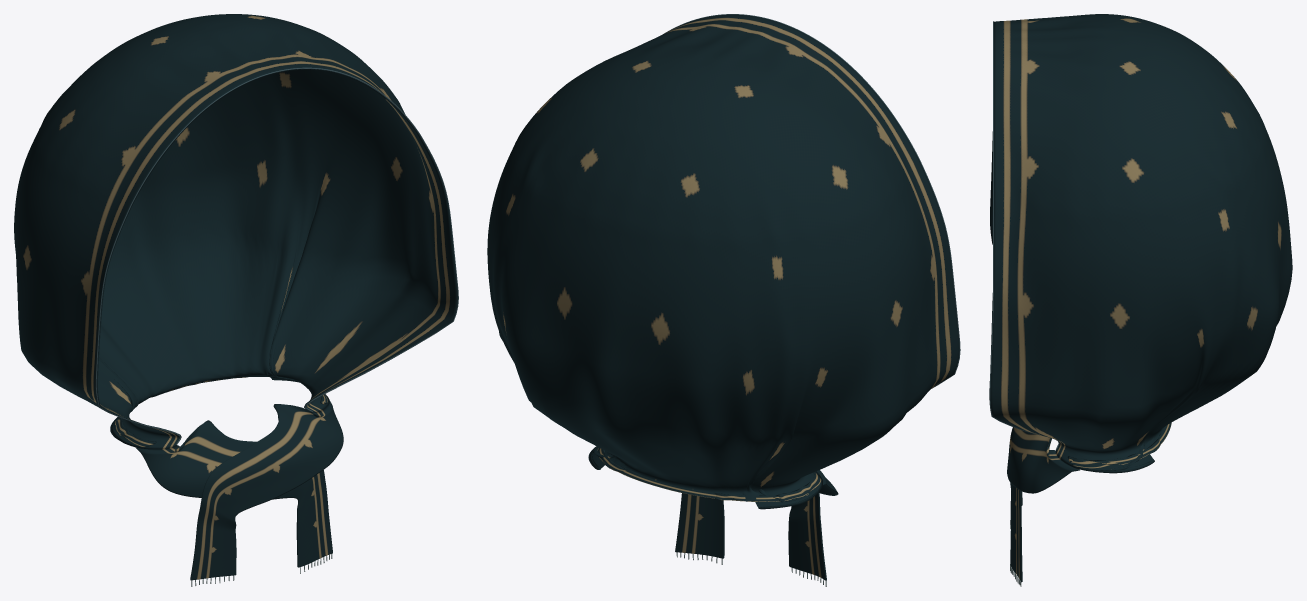
The model's file is Masculine-jersey-pashmina236-headgear.glb.
The picture shows the model from 3 angles, left to right: view 1: azimuth 30°, elevation 25°; view 2: azimuth 150°, elevation 25°; view 3: azimuth 270°, elevation 25°; orthographic projection. The views are drawn at different scales.
Visible parts, largest first — view 1: 226 headgear / Headwear / continuous woven pashmina236, 226 headgear / Headwear / face edge236; view 2: 226 headgear / Headwear / continuous woven pashmina236, 226 headgear / Headwear / face edge236; view 3: 226 headgear / Headwear / continuous woven pashmina236, 226 headgear / Headwear / face edge236.
Part boxes in pixels (bbox=[...]): 226 headgear / Headwear / continuous woven pashmina236: bbox=[14, 14, 457, 580]; 226 headgear / Headwear / face edge236: bbox=[95, 67, 458, 444]; 226 headgear / Headwear / continuous woven pashmina236: bbox=[487, 14, 959, 580]; 226 headgear / Headwear / face edge236: bbox=[664, 14, 960, 388]; 226 headgear / Headwear / continuous woven pashmina236: bbox=[990, 14, 1292, 582]; 226 headgear / Headwear / face edge236: bbox=[989, 21, 1059, 449].
Size of the model in its own units: 1.03 by 1.35 by 0.7127.
Materials: 3 (1 with a texture image).
